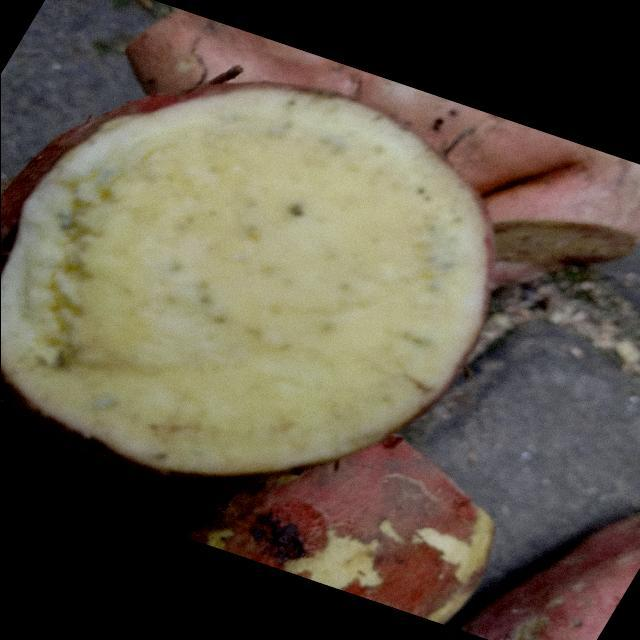Healthy Sweet Potato: (2, 84, 490, 475)
